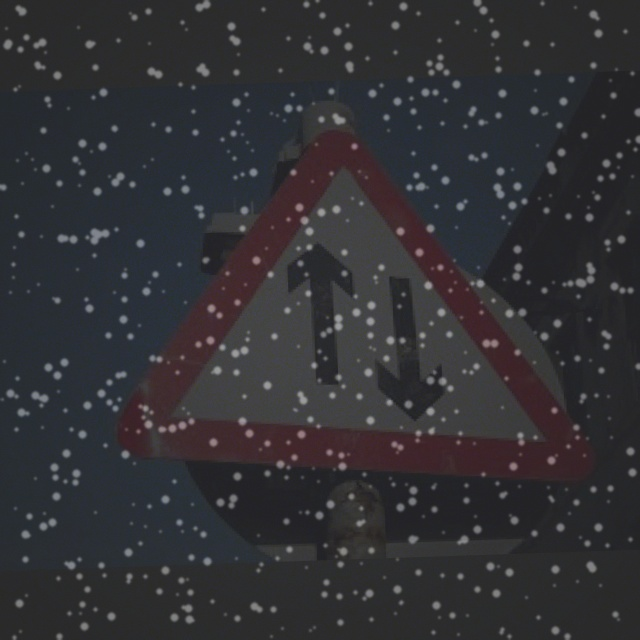Mandatory_Two_Way_Traffic: (113, 122, 599, 501)
